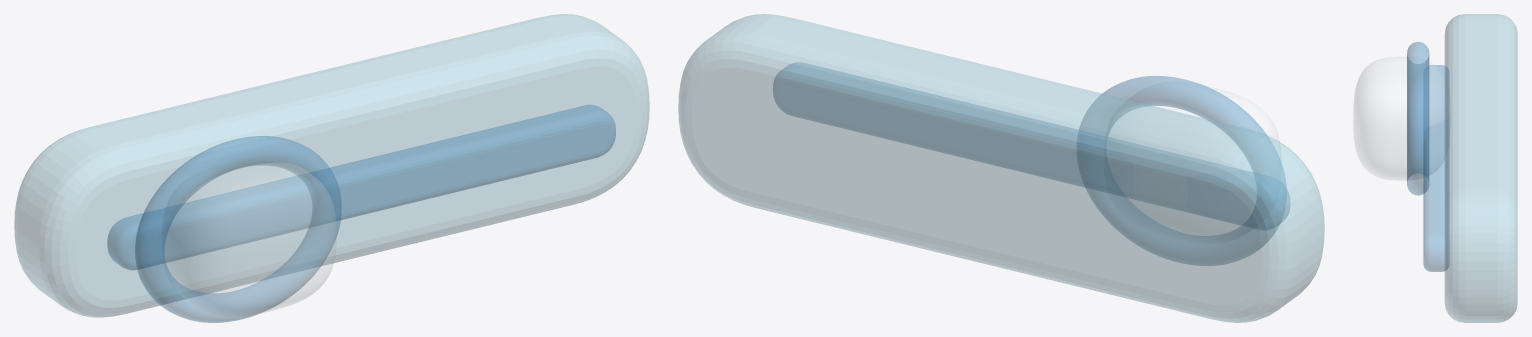
The picture shows the model from 3 angles, left to right: view 1: azimuth 30°, elevation 25°; view 2: azimuth 150°, elevation 25°; view 3: azimuth 270°, elevation 25°; orthographic projection. The views are drawn at different scales.
Parts seen in each view (by area): view 1: cradle, channel, thumb-0, flexible-skirt; view 2: cradle, channel, flexible-skirt, thumb-0; view 3: cradle, thumb-0, channel, flexible-skirt.
Part boxes in pixels (x1,y1,x2,y2): cradle: (14, 14, 649, 317); channel: (107, 105, 615, 269); thumb-0: (164, 162, 336, 316); flexible-skirt: (135, 136, 341, 322); cradle: (678, 14, 1324, 322); channel: (773, 62, 1290, 230); flexible-skirt: (1079, 76, 1286, 265); thumb-0: (1151, 86, 1279, 141); cradle: (1445, 14, 1517, 322); thumb-0: (1353, 57, 1444, 180); channel: (1423, 65, 1449, 271); flexible-skirt: (1407, 42, 1429, 195).
Bounding box in the file's own units: 2.6 × 0.73 × 0.81.
